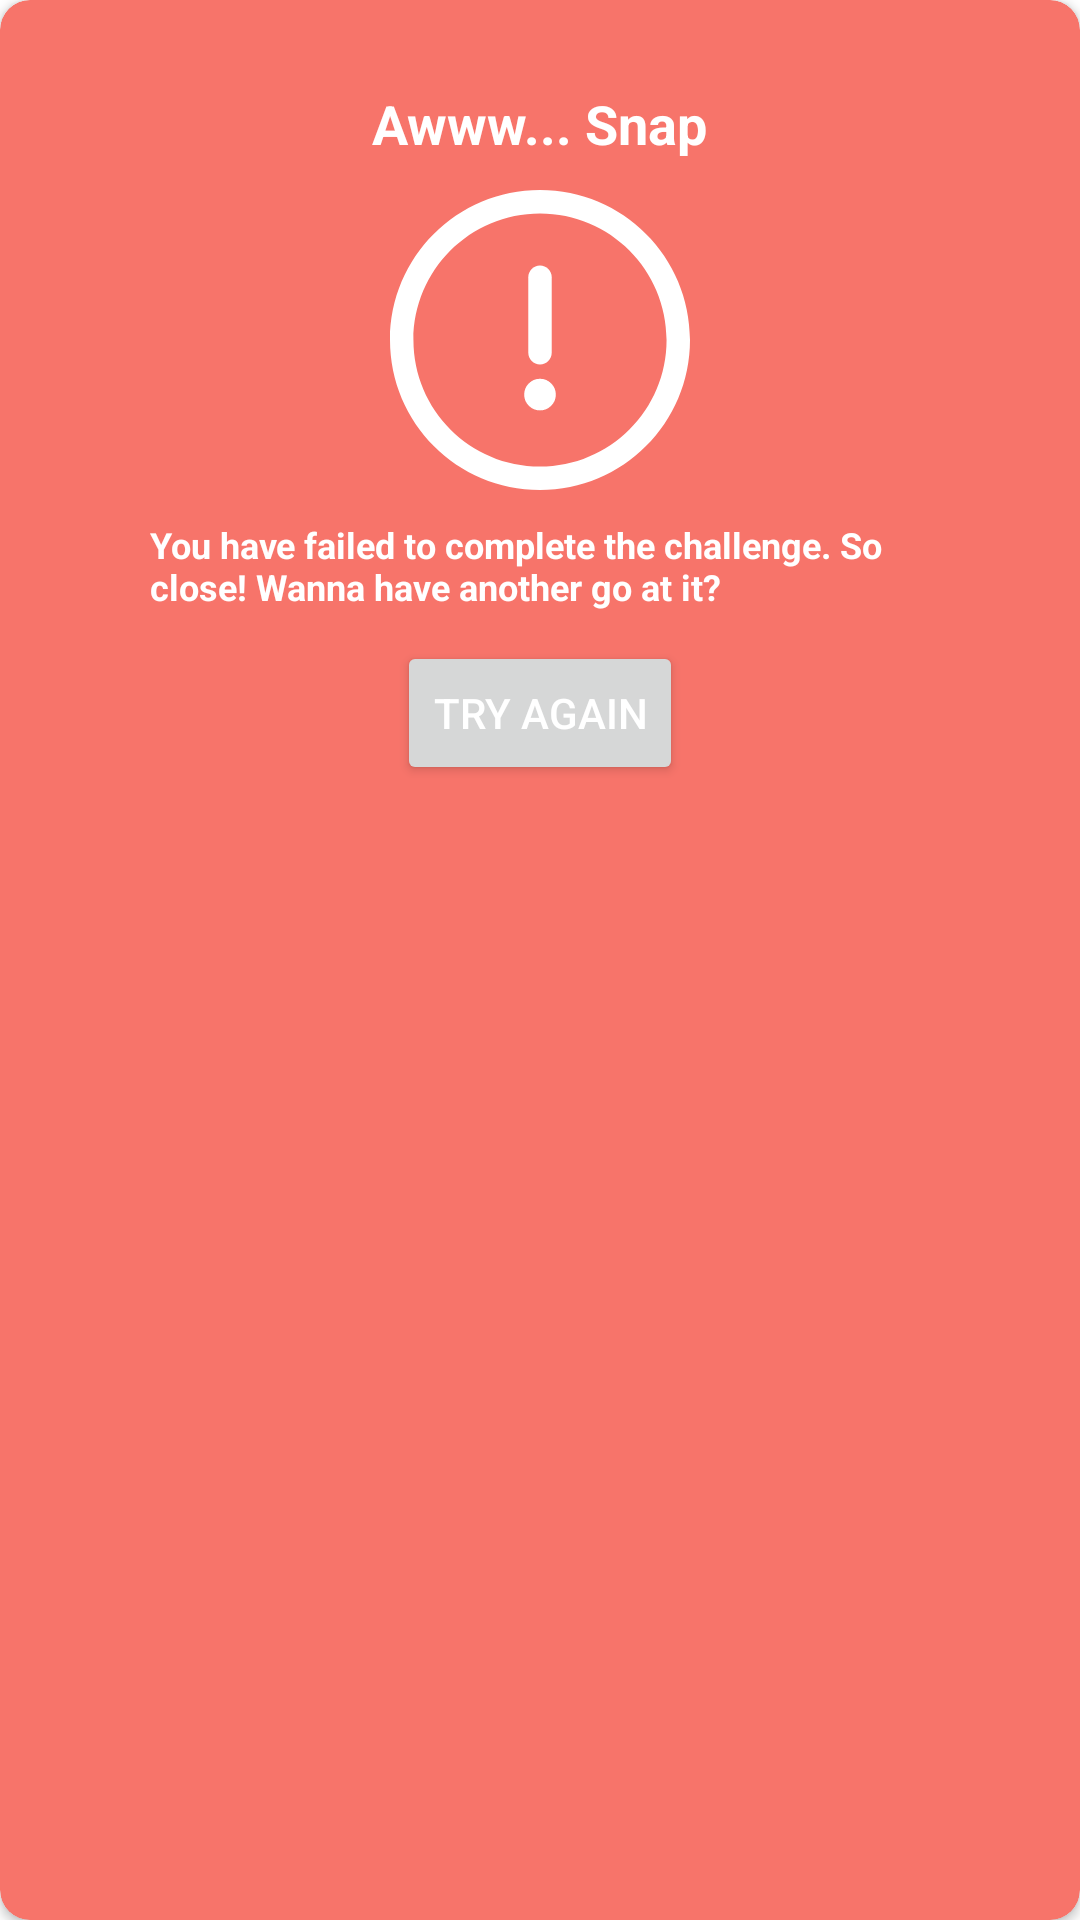

Where to tap for icons on this 1080x1920 app screen, as (x,y):
warning: (540,340)
